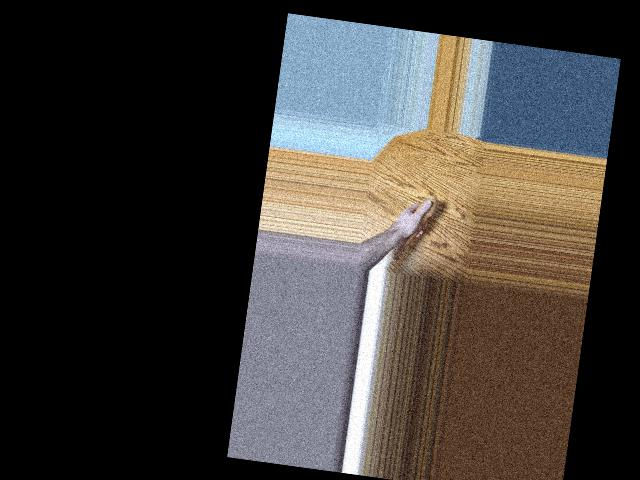sweet_potato: (389, 194, 436, 266)
